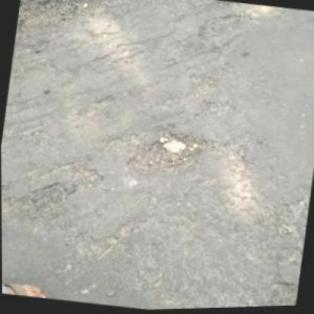Hueco: (125, 123, 210, 186), (60, 157, 108, 186), (184, 72, 220, 100), (35, 179, 71, 206)
